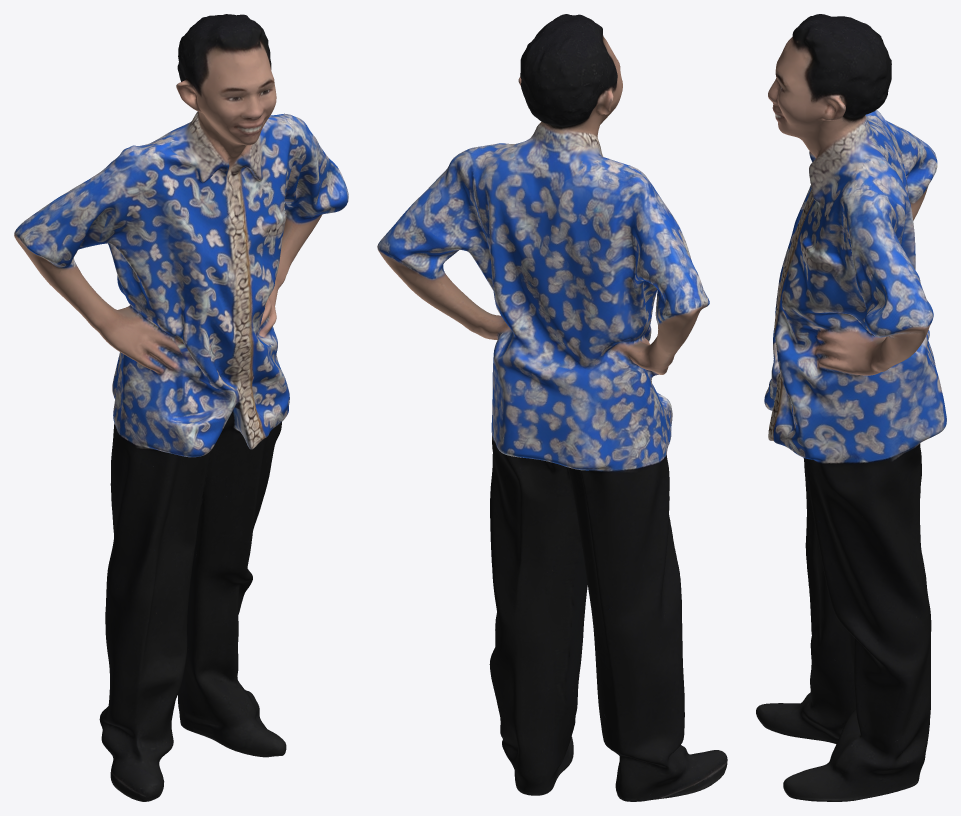
Rendered from Skin_Wahyu.glb.
The picture shows the model from 3 angles, left to right: view 1: azimuth 30°, elevation 25°; view 2: azimuth 150°, elevation 25°; view 3: azimuth 270°, elevation 25°; orthographic projection. The views are drawn at different scales.
Bounding box in the file's own units: 0.8599 × 1.9 × 0.4315.
1 material, 1 textured.
